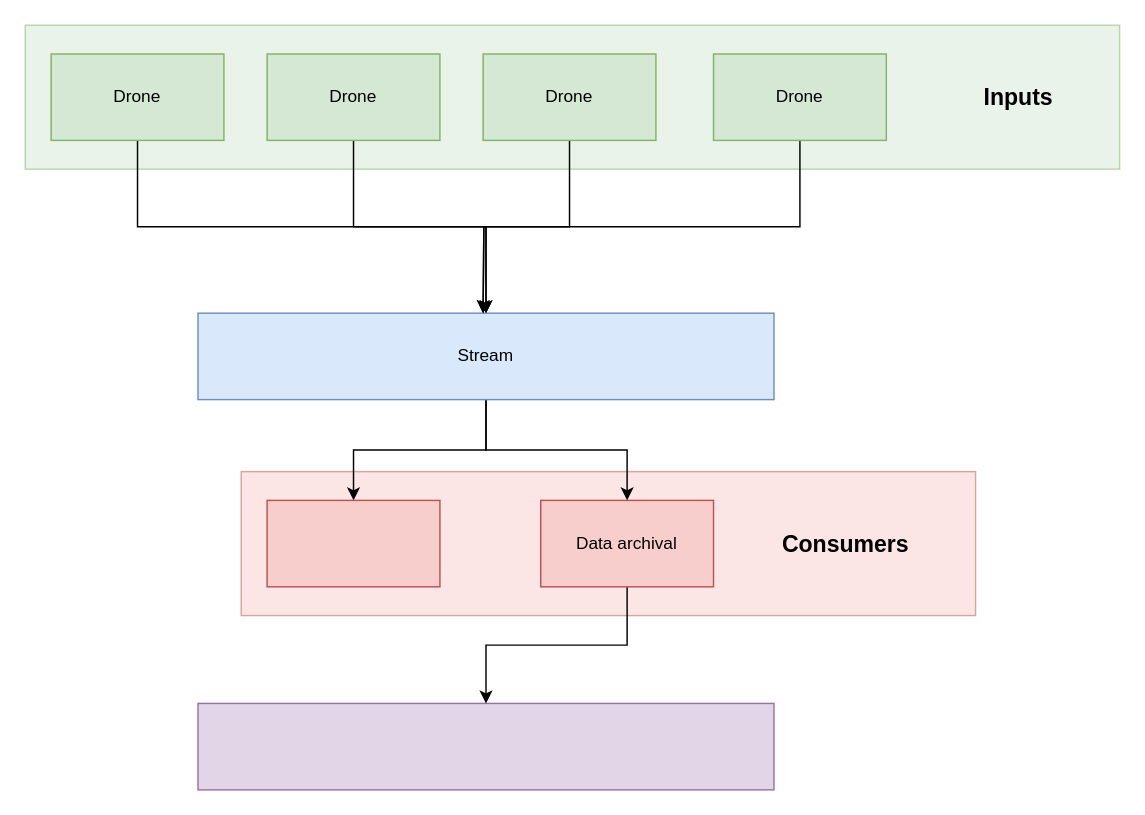
Image size: 1145x815. Some labels were removed from this diagram. The box of each missing label's shape, as (x1, y1, x2, y2) in pixels:
Alert processor: (266, 499, 440, 587)
Distributed storage: (197, 702, 774, 790)
